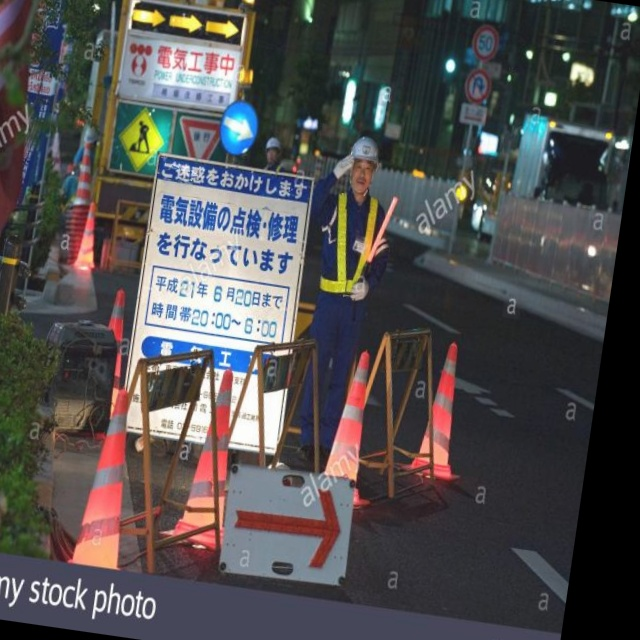Con_Casco: (346, 134, 382, 196)
Con_Chaleco: (315, 192, 383, 300)
